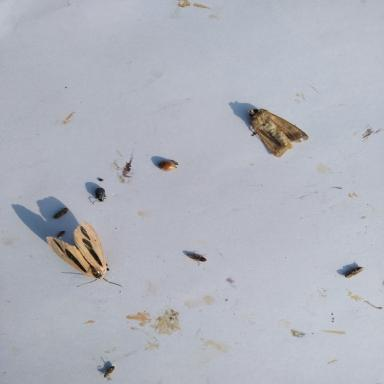abw: (41, 218, 125, 288), (242, 104, 312, 162)
